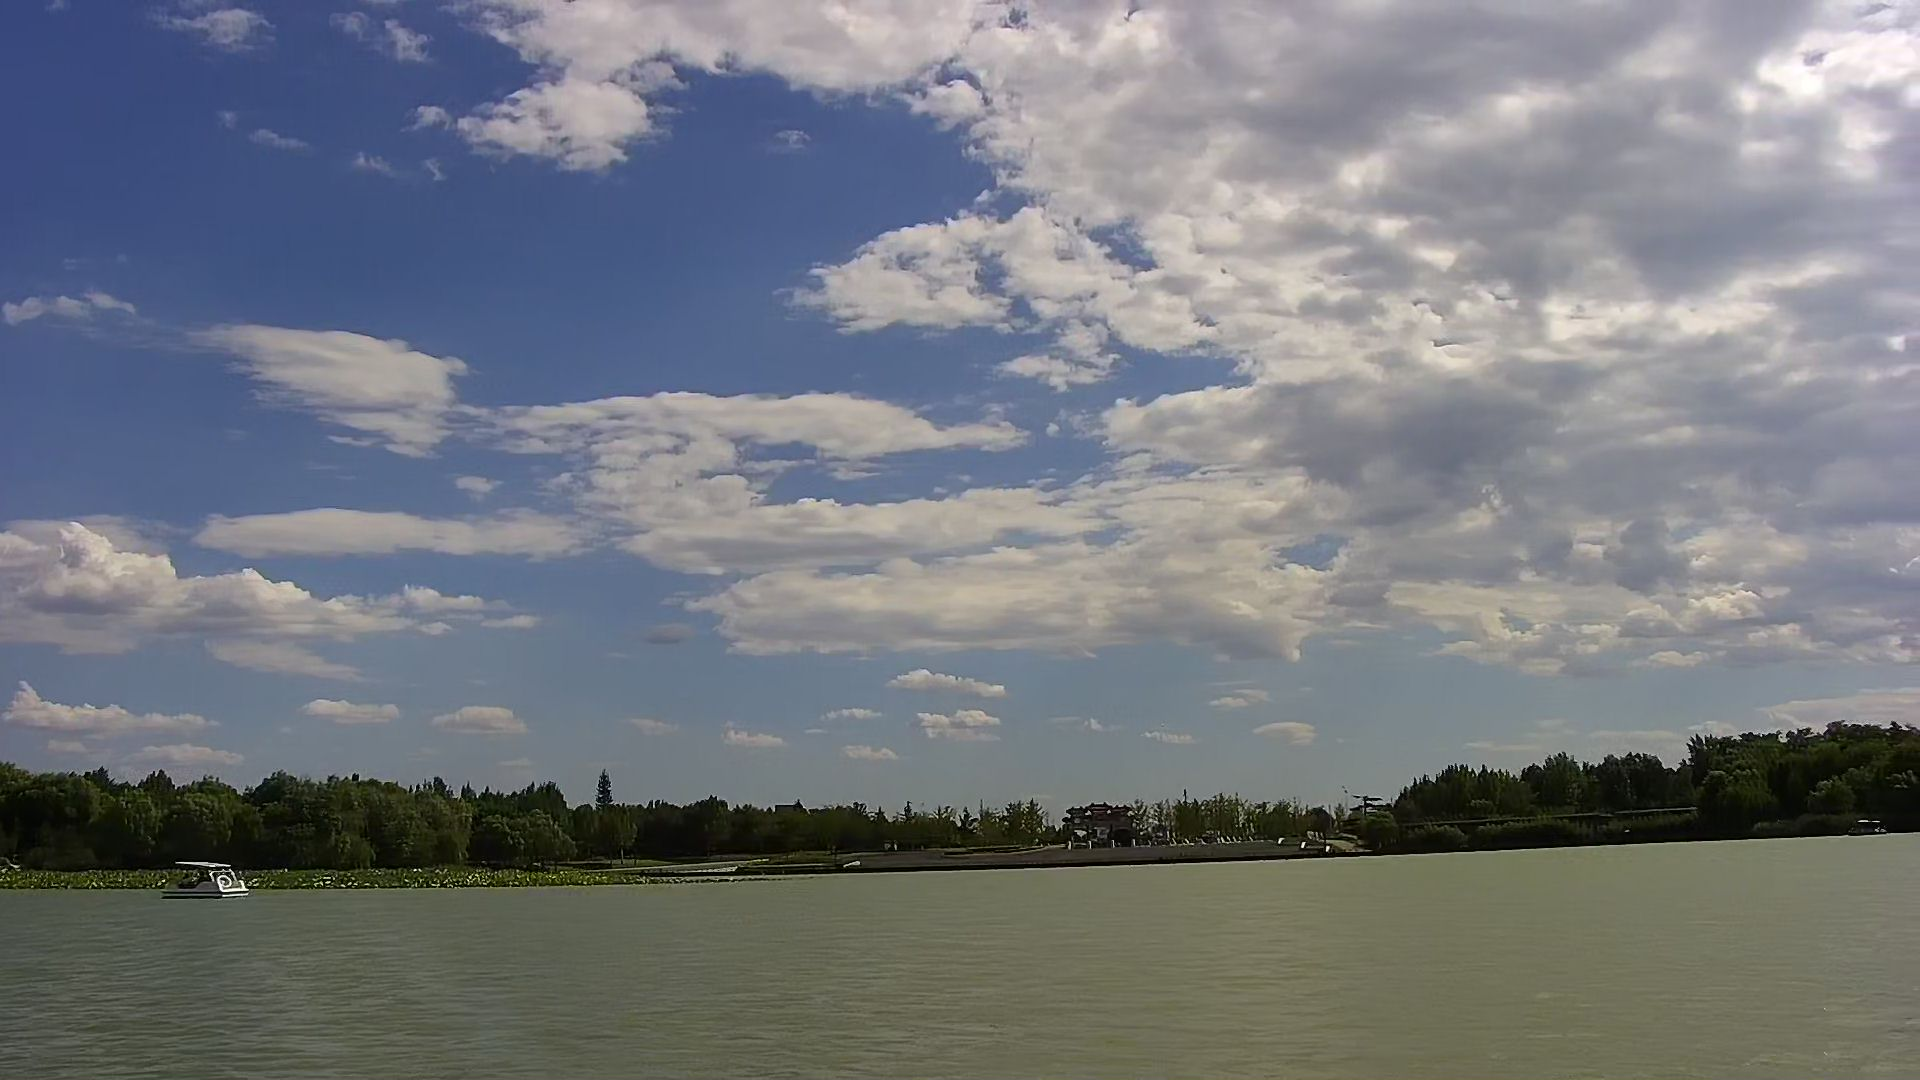boat: (160, 855, 251, 905)
